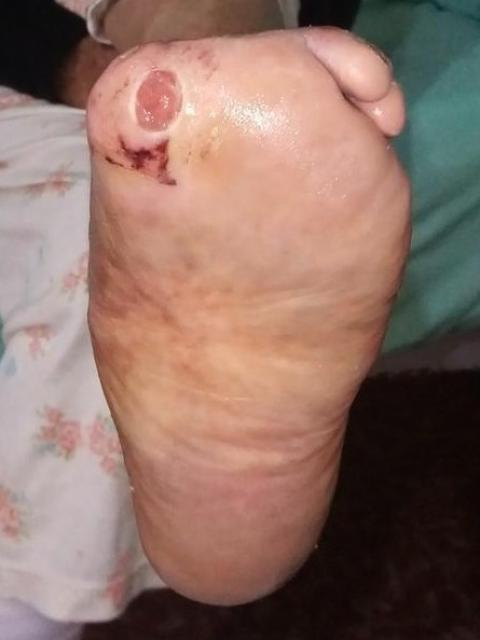wound: (131, 69, 186, 136), (105, 137, 178, 185)
